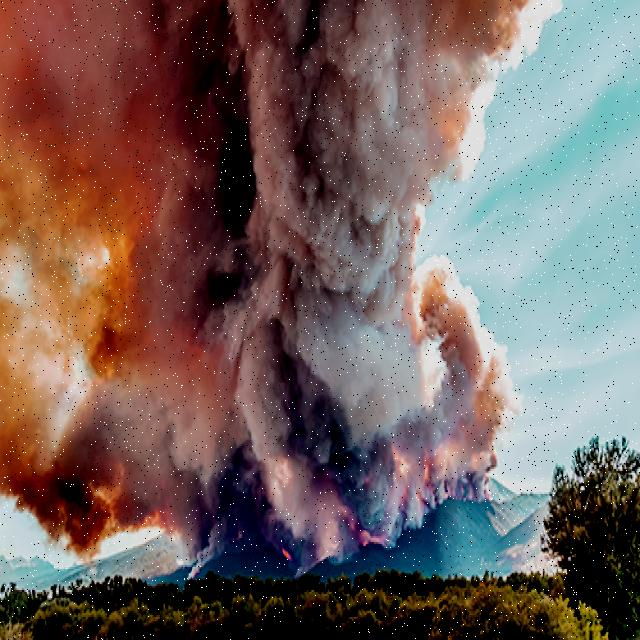asap: (1, 2, 569, 556)
